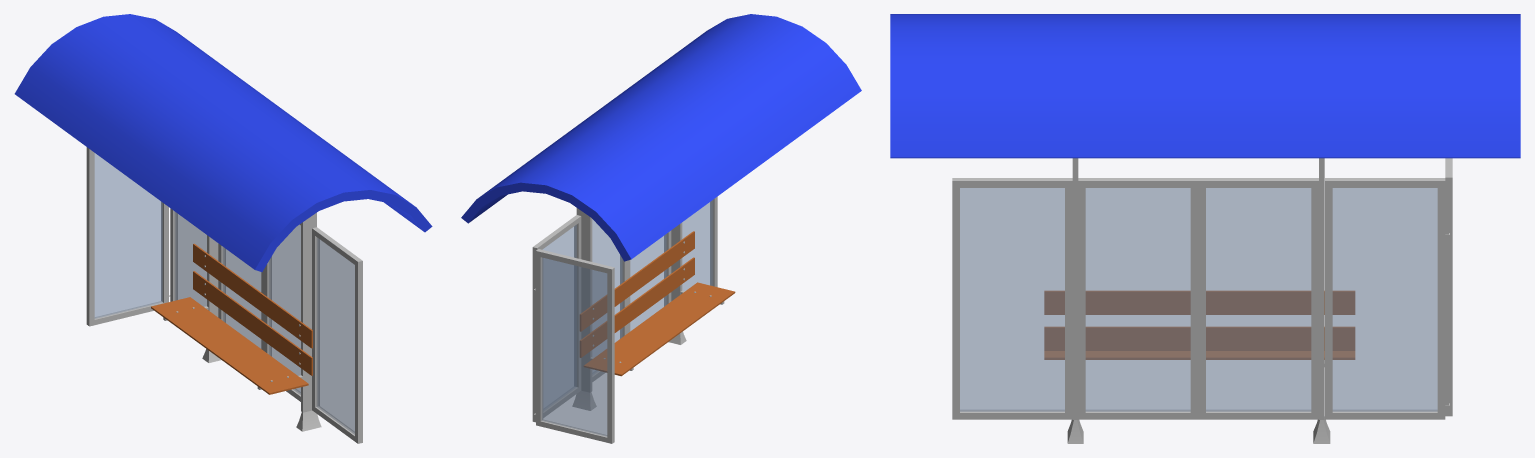
Rendered from bus_stop.fbx.
The picture shows the model from 3 angles, left to right: view 1: azimuth 30°, elevation 25°; view 2: azimuth 150°, elevation 25°; view 3: azimuth 270°, elevation 25°; orthographic projection. The views are drawn at different scales.
Visible parts, largest first — view 1: pasted__roof, glassBehindVendingMachine, glass4, pasted__bench_seat, glass3, glass1, pasted__bench_backrest_upper, pasted__bench_backrest_lower, right_pillar, glass2, left_pillar; view 2: pasted__roof, glassBehindVendingMachine, glass1, pasted__bench_seat, glass4, glass2, pasted__bench_backrest_lower, pasted__bench_backrest_upper, left_pillar, glass3, right_pillar; view 3: pasted__roof, glass4, glass3, glass2, glass1, pasted__bench_backrest_lower, pasted__bench_backrest_upper, pasted__bench_seat, right_pillar, glassBehindVendingMachine, left_pillar.
Boxes of the visible parts, x1,y1,x2,y2 form: pasted__roof: (14,14,432,271); glassBehindVendingMachine: (86,147,168,326); glass4: (312,227,362,443); pasted__bench_seat: (151,297,308,394); glass3: (264,224,300,401); glass1: (170,208,206,306); pasted__bench_backrest_upper: (193,243,312,348); pasted__bench_backrest_lower: (193,271,312,375); right_pillar: (296,212,321,431); glass2: (218,243,264,350); left_pillar: (202,235,221,362); pasted__roof: (461,14,861,261); glassBehindVendingMachine: (536,249,614,443); glass1: (532,215,581,422); pasted__bench_seat: (584,282,735,376); glass4: (682,196,717,290); glass2: (592,219,627,381); pasted__bench_backrest_lower: (580,257,694,357); pasted__bench_backrest_upper: (580,231,694,331); left_pillar: (572,208,596,410); glass3: (627,230,671,332); right_pillar: (668,222,686,344); pasted__roof: (890,14,1520,158); glass4: (952,178,1072,419); glass3: (1078,178,1198,419); glass2: (1198,178,1318,419); glass1: (1325,178,1445,419); pasted__bench_backrest_lower: (1044,327,1354,350); pasted__bench_backrest_upper: (1044,291,1354,314); pasted__bench_seat: (1044,351,1354,359); right_pillar: (1067,158,1083,443); glassBehindVendingMachine: (1445,158,1452,416); left_pillar: (1313,158,1330,443).
Size of the model in its own units: 612 by 971 by 1433.
